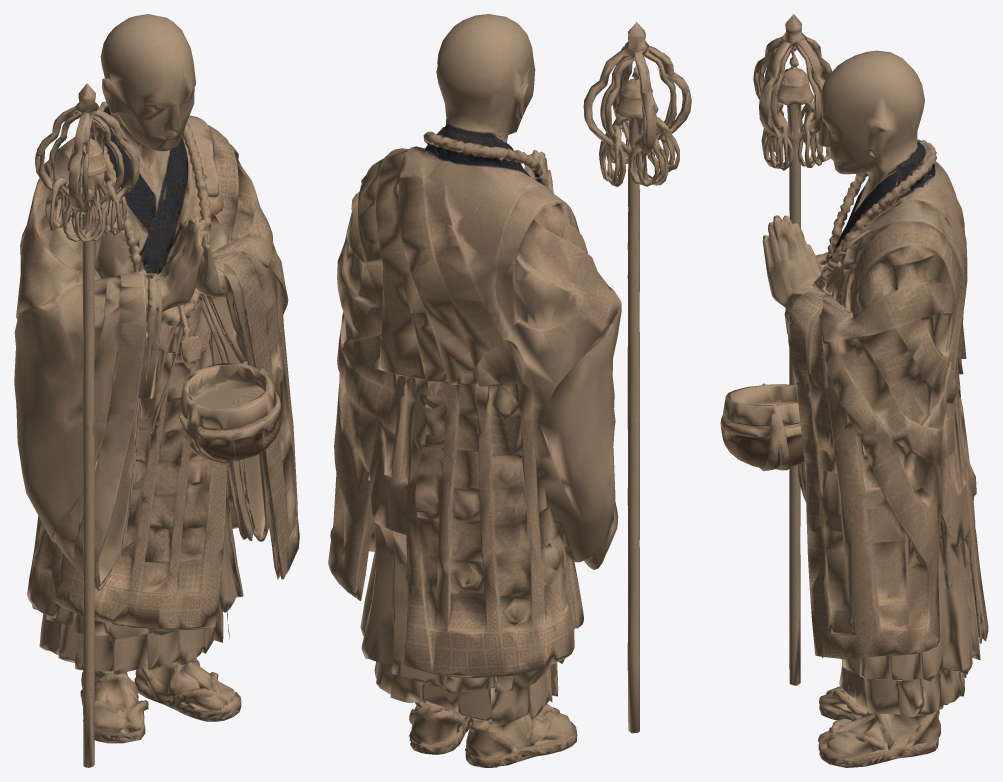
The model's file is monk.glb.
The picture shows the model from 3 angles, left to right: view 1: azimuth 30°, elevation 25°; view 2: azimuth 150°, elevation 25°; view 3: azimuth 270°, elevation 25°; orthographic projection. The views are drawn at different scales.
Size of the model in its own units: 0.8161 by 1.9 by 0.6816.
Materials: 1 (1 with a texture image).
